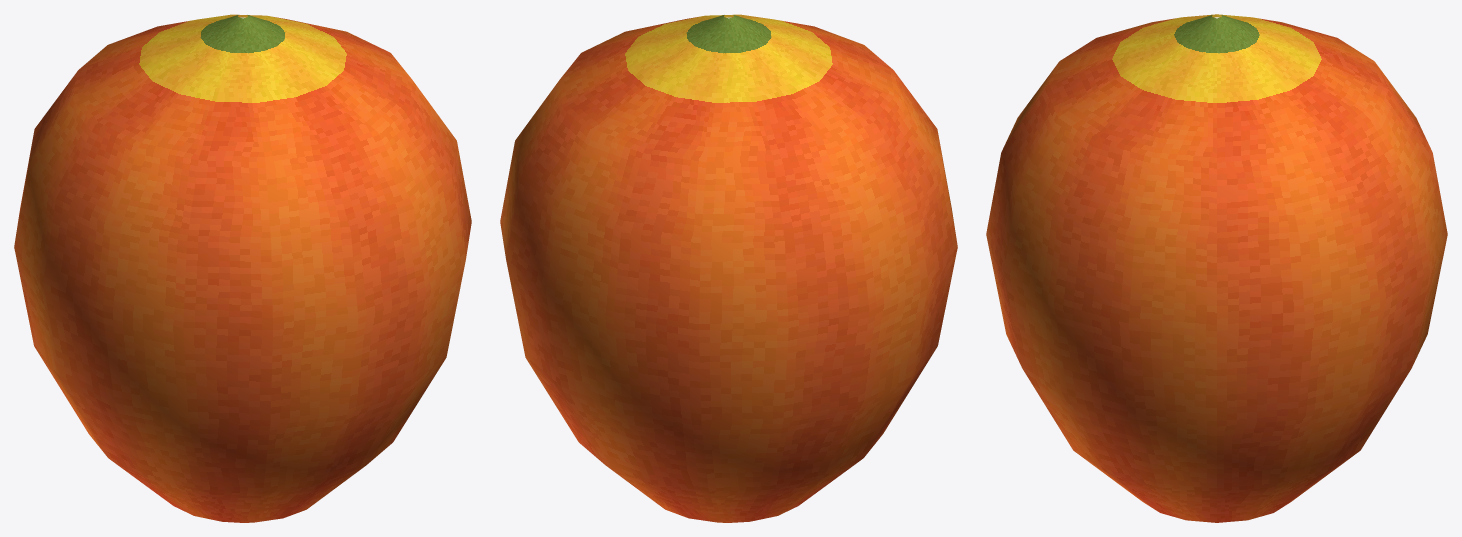
The model's file is chontaduro_boraudo.glb.
3 renders of one model, left to right at view 1: azimuth 30°, elevation 25°; view 2: azimuth 150°, elevation 25°; view 3: azimuth 270°, elevation 25°, orthographic.
Visible parts, largest first — view 1: chontaduro_boraudo; view 2: chontaduro_boraudo; view 3: chontaduro_boraudo.
Boxes of the visible parts, x1=… form: chontaduro_boraudo: x1=14, y1=14, x2=471, y2=522; chontaduro_boraudo: x1=500, y1=14, x2=957, y2=522; chontaduro_boraudo: x1=986, y1=14, x2=1447, y2=522.
Size of the model in its own units: 0.92 by 1.11 by 0.92.
1 material, 1 textured.
